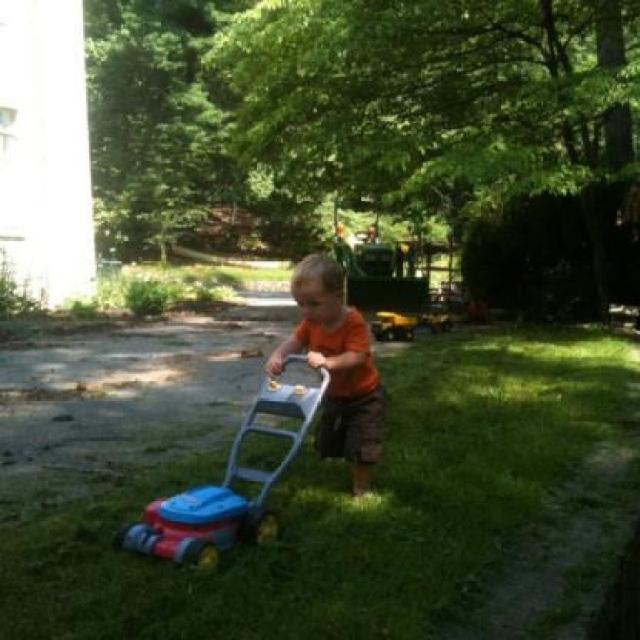Person: (262, 254, 388, 501)
